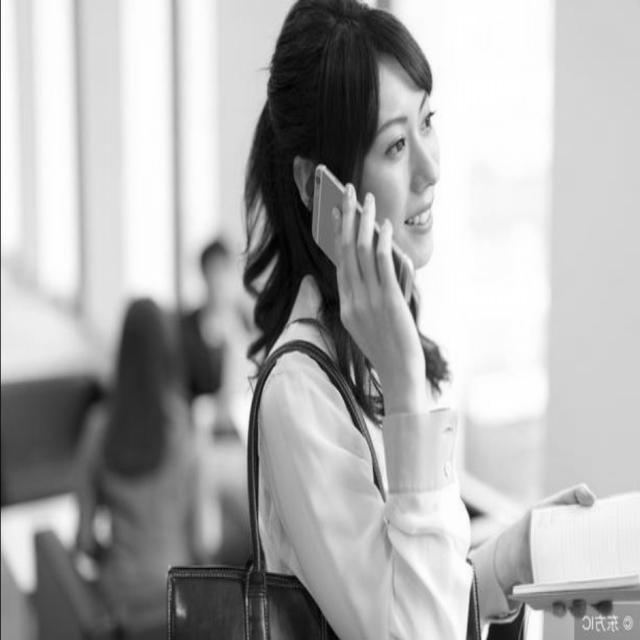phone: (300, 123, 422, 321)
